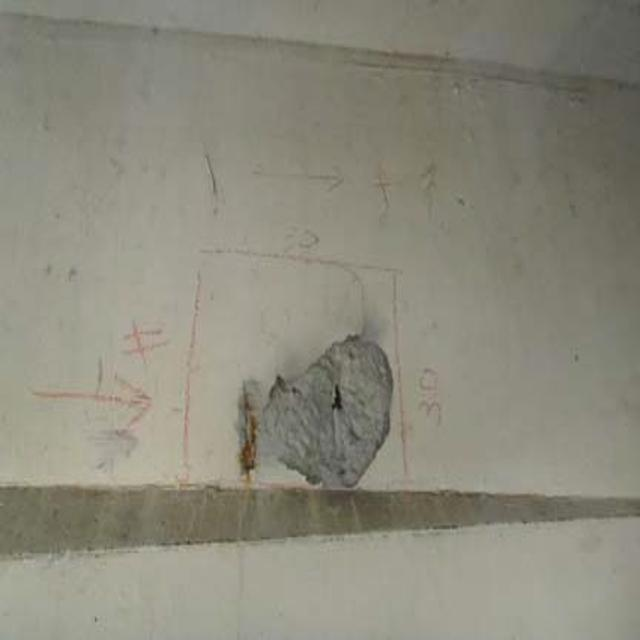spalling: (238, 314, 403, 502)
